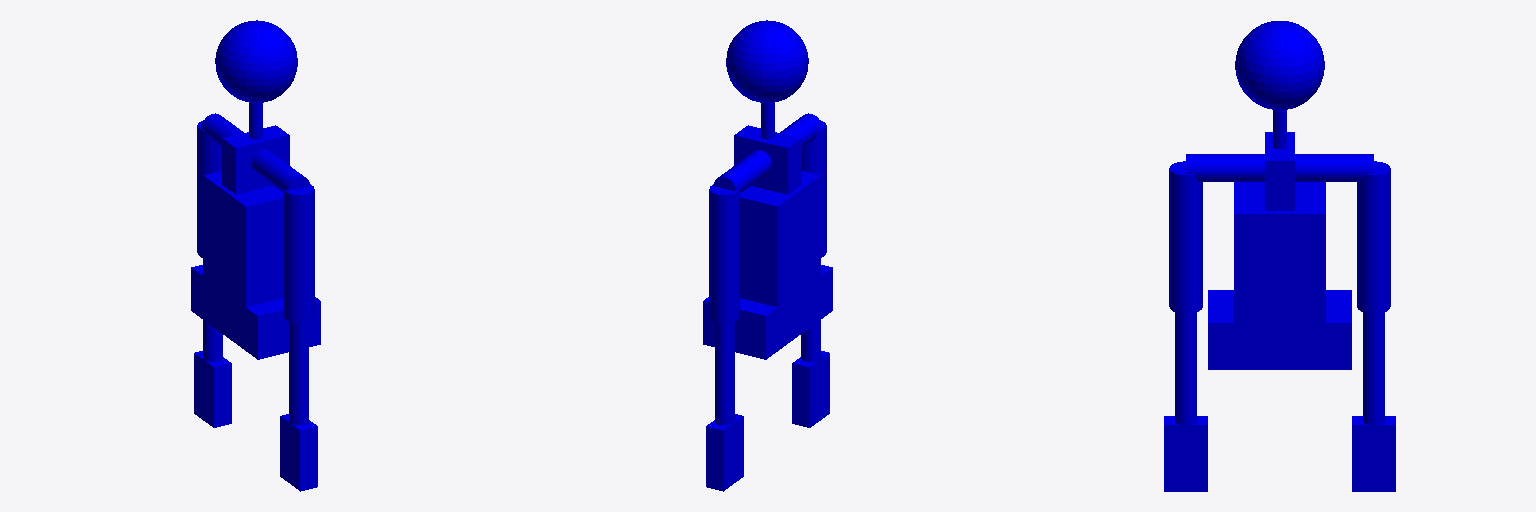
The robot description file, URDF, robot "human_upper_body":
<robot name="human_upper_body">

<material name="color">
    <color rgba="0 0 1 1"/>
</material>

<link name="world"/>

<joint name="worldtoPelvis" type="fixed">
    <origin xyz="0 0 0" rpy="0 0 0"/>
    <parent link="world"/>
    <child link="Pelvis"/>
</joint>

<link name="Pelvis">
    <inertial>
      <mass value="0.001"/>
      <!--COM origin wrt pHipOrigin-->
      <origin rpy="0 0 0" xyz="0 0 0.05409"/>
      <inertia ixx="0.052822" ixy="0" ixz="0" iyy="0.019965" iyz="0" izz="0.060476"/>
    </inertial>
    <visual>
      <!--box origin wrt pHipOrigin-->
      <origin rpy="0 0 0" xyz="0 0 0.05409"/>
      <geometry>
        <box size="0.16203 0.29786 0.10818"/>
      </geometry>
      <material name="color"/>
    </visual>
    <collision>
      <!--box origin wrt pHipOrigin-->
      <origin rpy="0 0 0" xyz="0 0 0.05409"/>
      <geometry>
        <box size="0.16203 0.29786 0.10818"/>
      </geometry>
    </collision>
  </link>
  <joint name="jPelvis" type="fixed">
    <origin rpy="0 0 0" xyz="0 0 0.10818"/>
    <parent link="Pelvis"/>
    <child link="L5"/>
  </joint>
  <link name="L5">
    <inertial>
      <mass value="0.001"/>
      <!--COM origin wrt jL5S1-->
      <origin rpy="0 0 0" xyz="0 0 0.044243"/>
      <inertia ixx="0.029829" ixy="0" ixz="0" iyy="0.022858" iyz="0" izz="0.042185"/>
    </inertial>
    <visual>
      <!--box origin origin wrt jL5S1-->
      <origin rpy="0 0 0" xyz="0 0 0.044243"/>
      <geometry>
        <box size="0.16203 0.19144 0.088486"/>
      </geometry>
      <material name="color"/>
    </visual>
    <collision>
      <!--box origin origin wrt jL5S1-->
      <origin rpy="0 0 0" xyz="0 0 0.044243"/>
      <geometry>
        <box size="0.16203 0.19144 0.088486"/>
      </geometry>
    </collision>
  </link>
  <joint name="jL5L3" type="fixed">
    <origin rpy="0 0 0" xyz="0 0 0.088486"/>
    <parent link="L5"/>
    <child link="L3"/>
  </joint>
  <link name="L3">
    <inertial>
      <mass value="0.001"/>
      <!--COM origin wrt jL4L3-->
      <origin rpy="0 0 0" xyz="0 0 0.039957"/>
      <inertia ixx="0.028861" ixy="0" ixz="0" iyy="0.02189" iyz="0" izz="0.042185"/>
    </inertial>
    <visual>
      <!--box origin origin wrt jL4L3-->
      <origin rpy="0 0 0" xyz="0 0 0.039957"/>
      <geometry>
        <box size="0.16203 0.19144 0.079914"/>
      </geometry>
      <material name="color"/>
    </visual>
    <collision>
      <!--box origin origin wrt jL4L3-->
      <origin rpy="0 0 0" xyz="0 0 0.039957"/>
      <geometry>
        <box size="0.16203 0.19144 0.079914"/>
      </geometry>
    </collision>
  </link>
  <joint name="jL1T12_rotx" type="fixed">
    <origin rpy="0 0 0" xyz="0 0 0.079914"/>
    <parent link="L3"/>
    <child link="T12"/>
  </joint>
  <link name="T12">
    <inertial>
      <mass value="0.001"/>
      <!--COM origin wrt jL1T12-->
      <origin rpy="0 0 0" xyz="0 0 0.039957"/>
      <inertia ixx="0.028861" ixy="0" ixz="0" iyy="0.02189" iyz="0" izz="0.042185"/>
    </inertial>
    <visual>
      <!--box origin origin wrt jL1T12-->
      <origin rpy="0 0 0" xyz="0 0 0.039957"/>
      <geometry>
        <box size="0.16203 0.19144 0.079914"/>
      </geometry>
      <material name="color"/>
    </visual>
    <collision>
      <!--box origin origin wrt jL1T12-->
      <origin rpy="0 0 0" xyz="0 0 0.039957"/>
      <geometry>
        <box size="0.16203 0.19144 0.079914"/>
      </geometry>
    </collision>
  </link>
  <joint name="jT9T8_rotx" type="fixed">
    <origin rpy="0 0 0" xyz="0 0 0.079914"/>
    <parent link="T12"/>
    <child link="T8"/>
  </joint>
  <link name="T8">
    <inertial>
      <mass value="0.001"/>
      <!--COM origin wrt jT9T8-->
      <origin rpy="0 0 0" xyz="0 0 0.057446"/>
      <inertia ixx="0.0044311" ixy="0" ixz="0" iyy="0.0085523" iyz="0" izz="0.0060402"/>
    </inertial>
    <visual>
      <!--box origin wrt jT9T8-->
      <origin rpy="0 0 0" xyz="0 0 0.057446"/>
      <geometry>
        <box size="0.13899 0.0604 0.11489"/>
      </geometry>
      <material name="color"/>
    </visual>
    <collision>
      <!--box origin wrt jT9T8-->
      <origin rpy="0 0 0" xyz="0 0 0.057446"/>
      <geometry>
        <box size="0.13899 0.0604 0.11489"/>
      </geometry>
    </collision>
  </link>
  <joint name="jT8Neck" type="fixed">
    <origin rpy="0 0 0" xyz="0 0 0.11489"/>
    <parent link="T8"/>
    <child link="Neck"/>
  </joint>
  <link name="Neck">
    <inertial>
      <mass value="0.001"/>
      <!--COM origin wrt jT1C7-->
      <origin rpy="0 0 0" xyz="0 0 0.045875"/>
      <inertia ixx="0.00087909" ixy="0" ixz="0" iyy="0.00087909" iyz="0" izz="0.00042982"/>
    </inertial>
    <visual>
      <!--box origin wrt jT1C7-->
      <origin rpy="0 0 0" xyz="0 0 0.045875"/>
      <geometry>
        <cylinder length="0.09175" radius="0.015066"/>
      </geometry>
      <material name="color"/>
    </visual>
    <collision>
      <!--box origin wrt jT1C7-->
      <origin rpy="0 0 0" xyz="0 0 0.045875"/>
      <geometry>
        <cylinder length="0.09175" radius="0.015066"/>
      </geometry>
    </collision>
  </link>
  <joint name="jNeckHead" type="fixed">
    <origin rpy="0 0 0" xyz="0.001481 0 0.09175"/>
    <parent link="Neck"/>
    <child link="Head"/>
    <dynamics damping="0.1" friction="0.0"/>
    <limit effort="30" lower="-0.610865" upper="0.610865" velocity="1.0"/>
    <axis xyz="1 0 0"/>
  </joint>
  <link name="Head">
    <inertial>
      <mass value="2.8404"/>
      <!--COM origin wrt jC1Head-->
      <origin rpy="0 0 0" xyz="0 0 0.092703"/>
      <inertia ixx="0.0097641" ixy="0" ixz="0" iyy="0.0097641" iyz="0" izz="0.0097641"/>
    </inertial>
    <visual>
      <!--boc origin wrt jC1Head-->
      <origin rpy="0 0 0" xyz="0 0 0.092703"/>
      <geometry>
        <sphere radius="0.092703"/>
      </geometry>
      <material name="color"/>
    </visual>
    <collision>
      <!--box origin wrt jC1Head-->
      <origin rpy="0 0 0" xyz="0 0 0.092703"/>
      <geometry>
        <sphere radius="0.092703"/>
      </geometry>
    </collision>
  </link>
  <!-- RIGHT ARM -->
  <joint name="jT8RightShoulder" type="fixed">
    <origin rpy="0 0 0" xyz="0 -0.0302 0.064859"/>
    <parent link="T8"/>
    <child link="RightShoulder"/>
  </joint>
  <link name="RightShoulder">
    <inertial>
      <mass value="0.001"/>
      <!--COM origin wrt jRightC7Shoulder-->
      <origin rpy="0 0 0" xyz="0 -0.081595  0"/>
      <inertia ixx="0.0059341" ixy="0" ixz="0" iyy="0.0010123" iyz="0" izz="0.0059341"/>
    </inertial>
    <visual>
      <!--box origin wrt jRightC7Shoulder. RPY rotated of pi/2.-->
      <origin rpy="1.5708 0 0" xyz="0 -0.081595 0"/>
      <geometry>
        <cylinder length="0.16319" radius="0.02877"/>
      </geometry>
      <material name="color"/>
    </visual>
    <collision>
      <!--box origin wrt jRightC7Shoulder. RPY rotated of pi/2.-->
      <origin rpy="1.5708 0 0" xyz="0 -0.081595 0"/>
      <geometry>
        <cylinder length="0.16319" radius="0.02877"/>
      </geometry>
    </collision>
  </link>
  <joint name="jRight_1" type="revolute">
    <origin rpy="1.5708 0 0" xyz="0 -0.16319 0"/>
    <parent link="RightShoulder"/>
    <child link="Right1"/>
    <dynamics damping="0.1" friction="0.0"/>
    <limit effort="30" lower="-0.5236" upper="3.14159" velocity="1.0"/>
    <axis xyz="0 0 1"/>
  </joint>
  <link name="Right1">
    <inertial>
      <mass value="0.0001"/>
      <origin rpy="0 0 0" xyz="0 0 0"/>
      <inertia ixx="0.0001" ixy="0" ixz="0" iyy="0.0001" iyz="0" izz="0.0001"/>
    </inertial>
  </link>
  <joint name="jRight_2" type="revolute">
    <origin rpy="0 0 0" xyz="0 0 0"/>
    <parent link="Right1"/>
    <child link="Right2"/>
    <dynamics damping="0.1" friction="0.0"/>
    <limit effort="30" lower="-0.8727" upper="1.5708" velocity="1.0"/>
    <axis xyz="-1 0 0"/>
  </joint>
  <link name="Right2">
    <inertial>
      <mass value="0.0001"/>
      <origin rpy="0 0 0" xyz="0 0 0"/>
      <inertia ixx="0.0001" ixy="0" ixz="0" iyy="0.0001" iyz="0" izz="0.0001"/>
    </inertial>
  </link>
  <joint name="jRight_3" type="revolute">
    <origin rpy="0 0 0" xyz="0 0 0"/>
    <parent link="Right2"/>
    <child link="Right3"/>
    <dynamics damping="0.1" friction="0.0"/>
    <limit effort="30" lower="-1.3962" upper="1.3962" velocity="1.0"/>
    <axis xyz="0 -1 0"/>
  </joint>
  <link name="Right3">
    <inertial>
      <mass value="0.0001"/>
      <origin rpy="0 0 0" xyz="0 0 0"/>
      <inertia ixx="0.0001" ixy="0" ixz="0" iyy="0.0001" iyz="0" izz="0.0001"/>
    </inertial>
    <visual>
      <!--box origin wrt jRightShoulder. RPY rotated of pi/2.-->
      <origin rpy="1.5708 0 0" xyz="0 -0.15754 0"/>
      <geometry>
        <cylinder length="0.31509" radius="0.034205"/>
      </geometry>
      <material name="color"/>
    </visual>
    <collision>
      <!--box origin wrt jRightShoulder. RPY rotated of pi/2.-->
      <origin rpy="1.5708 0 0" xyz="0 -0.15754 0"/>
      <geometry>
        <cylinder length="0.31509" radius="0.034205"/>
      </geometry>
    </collision>
  </link>
  <joint name="jRight_4" type="revolute">
    <origin rpy="0 0 0" xyz="0 -0.31509 0"/>
    <parent link="Right3"/>
    <child link="Right4"/>
    <dynamics damping="0.1" friction="0.0"/>
    <limit effort="30" lower="0" upper="2.7925" velocity="1.0"/>
    <axis xyz="0 0 1"/>
  </joint>
  <link name="Right4">
    <inertial>
      <mass value="0.0001"/>
      <origin rpy="0 0 0" xyz="0 0 0"/>
      <inertia ixx="0.0001" ixy="0" ixz="0" iyy="0.0001" iyz="0" izz="0.0001"/>
    </inertial>
  </link>
  <joint name="jRight_5" type="revolute">
    <origin rpy="0 0 0" xyz="0 0 0"/>
    <parent link="Right4"/>
    <child link="Right5"/>
    <dynamics damping="0.1" friction="0.0"/>
    <limit effort="30" lower="-1.5708" upper="1.4835" velocity="1.0"/>
    <axis xyz="0 -1 0"/>
  </joint>
  <link name="Right5">
    <inertial>
      <mass value="0.0001"/>
      <origin rpy="0 0 0" xyz="0 0 0"/>
      <inertia ixx="0.0001" ixy="0" ixz="0" iyy="0.0001" iyz="0" izz="0.0001"/>
    </inertial>
    <visual>
      <!--box origin wrt jRightShoulder. RPY rotated of pi/2.-->
      <origin rpy="1.5708 0 0" xyz="0 -0.1292 0"/>
      <geometry>
        <cylinder length="0.2584" radius="0.022803"/>
      </geometry>
      <material name="color"/>
    </visual>
    <collision>
      <!--box origin wrt jRightShoulder. RPY rotated of pi/2.-->
      <origin rpy="1.5708 0 0" xyz="0 -0.1292 0"/>
      <geometry>
        <cylinder length="0.2584" radius="0.022803"/>
      </geometry>
    </collision>
  </link>
  <joint name="jRight_6" type="revolute">
    <origin rpy="0 0 0" xyz="0 -0.2584 0"/>
    <parent link="Right5"/>
    <child link="Right6"/>
    <dynamics damping="0.1" friction="0.0"/>
    <limit effort="30" lower="-1.4835" upper="1.4835" velocity="1.0"/>
    <axis xyz="0 0 1"/>
  </joint>
  <link name="Right6">
    <inertial>
      <mass value="0.0001"/>
      <origin rpy="0 0 0" xyz="0 0 0"/>
      <inertia ixx="0.0001" ixy="0" ixz="0" iyy="0.0001" iyz="0" izz="0.0001"/>
    </inertial>
  </link>
  <joint name="jRight_7" type="revolute">
    <origin rpy="0 0 0" xyz="0 0 0"/>
    <parent link="Right6"/>
    <child link="Right7"/>
    <dynamics damping="0.1" friction="0.0"/>
    <limit effort="30" lower="-0.7854" upper="0.2618" velocity="1.0"/>
    <axis xyz="-1 0 0"/>
  </joint>
  <link name="Right7">
    <inertial>
      <mass value="0.001"/>
      <!--COM origin wrt jRightWrist-->
      <origin rpy="0 0 0" xyz="0 -0.075 0"/>
      <inertia ixx="0.001" ixy="0" ixz="0" iyy="0.001" iyz="0" izz="0.001"/>
    </inertial>
    <visual>
      <!--box origin wrt jRightWrist-->
      <origin rpy="0 0 0" xyz="0 -0.075 0"/>
      <geometry>
        <!-- <box size="0.12916 0.19374 0.045607"/> -->
        <box size="0.045607 0.15 0.09"/>
      </geometry>
      <material name="color"/>
    </visual>
    <collision>
      <!--box origin wrt jRightWrist-->
      <origin rpy="0 0 0" xyz="0 -0.075 0"/>
      <geometry>
        <!-- <box size="0.12916 0.19374 0.045607"/> -->
        <box size="0.045607 0.15 0.09"/>
      </geometry>
    </collision>
  </link>
  <joint name="jRight_8" type="fixed">
    <origin rpy="0 0 0" xyz="0 -0.05 0"/>
    <parent link="Right7"/>
    <child link="RightTCP"/>
  </joint>
  <link name="RightTCP"/>
  <!-- LEFT ARM -->
  <joint name="jT8LeftShoulder" type="fixed">
    <origin rpy="0 0 0" xyz="0 0.0302 0.064859"/>
    <parent link="T8"/>
    <child link="LeftShoulder"/>
  </joint>
  <link name="LeftShoulder">
    <inertial>
      <mass value="0.001"/>
      <!--COM origin wrt jRightC7Shoulder-->
      <origin rpy="0 0 0" xyz="0 0.081595  0"/>
      <inertia ixx="0.0059341" ixy="0" ixz="0" iyy="0.0010123" iyz="0" izz="0.0059341"/>
    </inertial>
    <visual>
      <!--box origin wrt jRightC7Shoulder. RPY rotated of pi/2.-->
      <origin rpy="1.5708 0 0" xyz="0 0.081595 0"/>
      <geometry>
        <cylinder length="0.16319" radius="0.02877"/>
      </geometry>
      <material name="color"/>
    </visual>
    <collision>
      <!--box origin wrt jRightC7Shoulder. RPY rotated of pi/2.-->
      <origin rpy="1.5708 0 0" xyz="0 0.081595 0"/>
      <geometry>
        <cylinder length="0.16319" radius="0.02877"/>
      </geometry>
    </collision>
  </link>
  <joint name="jLeft_1" type="revolute">
    <origin rpy="1.5708 0 0" xyz="0 0.16319 0"/>
    <parent link="LeftShoulder"/>
    <child link="Left1"/>
    <dynamics damping="0.1" friction="0.0"/>
    <limit effort="30" lower="-0.5236" upper="3.14159" velocity="1.0"/>
    <axis xyz="0 0 1"/>
  </joint>
  <link name="Left1">
    <inertial>
      <mass value="0.0001"/>
      <origin rpy="0 0 0" xyz="0 0 0"/>
      <inertia ixx="0.0001" ixy="0" ixz="0" iyy="0.0001" iyz="0" izz="0.0001"/>
    </inertial>
  </link>
  <joint name="jLeft_2" type="revolute">
    <origin rpy="0 0 0" xyz="0 0 0"/>
    <parent link="Left1"/>
    <child link="Left2"/>
    <dynamics damping="0.1" friction="0.0"/>
    <limit effort="30" lower="-1.5708" upper="0.8727" velocity="1.0"/>
    <axis xyz="-1 0 0"/>
  </joint>
  <link name="Left2">
    <inertial>
      <mass value="0.0001"/>
      <origin rpy="0 0 0" xyz="0 0 0"/>
      <inertia ixx="0.0001" ixy="0" ixz="0" iyy="0.0001" iyz="0" izz="0.0001"/>
    </inertial>
  </link>
  <joint name="jLeft_3" type="revolute">
    <origin rpy="0 0 0" xyz="0 0 0"/>
    <parent link="Left2"/>
    <child link="Left3"/>
    <dynamics damping="0.1" friction="0.0"/>
    <limit effort="30" lower="-1.3962" upper="1.3962" velocity="1.0"/>
    <axis xyz="0 -1 0"/>
  </joint>
  <link name="Left3">
    <inertial>
      <mass value="0.0001"/>
      <origin rpy="0 0 0" xyz="0 0 0"/>
      <inertia ixx="0.0001" ixy="0" ixz="0" iyy="0.0001" iyz="0" izz="0.0001"/>
    </inertial>
    <visual>
      <!--box origin wrt jRightShoulder. RPY rotated of pi/2.-->
      <origin rpy="1.5708 0 0" xyz="0 -0.15754 0"/>
      <geometry>
        <cylinder length="0.31509" radius="0.034205"/>
      </geometry>
      <material name="color"/>
    </visual>
    <collision>
      <!--box origin wrt jRightShoulder. RPY rotated of pi/2.-->
      <origin rpy="1.5708 0 0" xyz="0 -0.15754 0"/>
      <geometry>
        <cylinder length="0.31509" radius="0.034205"/>
      </geometry>
    </collision>
  </link>
  <joint name="jLeft_4" type="revolute">
    <origin rpy="0 0 0" xyz="0 -0.31509 0"/>
    <parent link="Left3"/>
    <child link="Left4"/>
    <dynamics damping="0.1" friction="0.0"/>
    <limit effort="30" lower="0" upper="2.7925" velocity="1.0"/>
    <axis xyz="0 0 1"/>
  </joint>
  <link name="Left4">
    <inertial>
      <mass value="0.0001"/>
      <origin rpy="0 0 0" xyz="0 0 0"/>
      <inertia ixx="0.0001" ixy="0" ixz="0" iyy="0.0001" iyz="0" izz="0.0001"/>
    </inertial>
  </link>
  <joint name="jLeft_5" type="revolute">
    <origin rpy="0 0 0" xyz="0 0 0"/>
    <parent link="Left4"/>
    <child link="Left5"/>
    <dynamics damping="0.1" friction="0.0"/>
    <limit effort="30" lower="-1.4835" upper="1.5708" velocity="1.0"/>
    <axis xyz="0 -1 0"/>
  </joint>
  <link name="Left5">
    <inertial>
      <mass value="0.0001"/>
      <origin rpy="0 0 0" xyz="0 0 0"/>
      <inertia ixx="0.0001" ixy="0" ixz="0" iyy="0.0001" iyz="0" izz="0.0001"/>
    </inertial>
    <visual>
      <!--box origin wrt jRightShoulder. RPY rotated of pi/2.-->
      <origin rpy="1.5708 0 0" xyz="0 -0.1292 0"/>
      <geometry>
        <cylinder length="0.2584" radius="0.022803"/>
      </geometry>
      <material name="color"/>
    </visual>
    <collision>
      <!--box origin wrt jRightShoulder. RPY rotated of pi/2.-->
      <origin rpy="1.5708 0 0" xyz="0 -0.1292 0"/>
      <geometry>
        <cylinder length="0.2584" radius="0.022803"/>
      </geometry>
    </collision>
  </link>
  <joint name="jLeft_6" type="revolute">
    <origin rpy="0 0 0" xyz="0 -0.2584 0"/>
    <parent link="Left5"/>
    <child link="Left6"/>
    <dynamics damping="0.1" friction="0.0"/>
    <limit effort="30" lower="-1.4835" upper="1.4835" velocity="1.0"/>
    <axis xyz="0 0 1"/>
  </joint>
  <link name="Left6">
    <inertial>
      <mass value="0.0001"/>
      <origin rpy="0 0 0" xyz="0 0 0"/>
      <inertia ixx="0.0001" ixy="0" ixz="0" iyy="0.0001" iyz="0" izz="0.0001"/>
    </inertial>
  </link>
  <joint name="jLeft_7" type="revolute">
    <origin rpy="0 0 0" xyz="0 0 0"/>
    <parent link="Left6"/>
    <child link="Left7"/>
    <dynamics damping="0.1" friction="0.0"/>
    <limit effort="30" lower="-0.2618" upper="0.7854" velocity="1.0"/>
    <axis xyz="-1 0 0"/>
  </joint>
  <link name="Left7">
    <inertial>
      <mass value="0.001"/>
      <!--COM origin wrt jRightWrist-->
      <origin rpy="0 0 0" xyz="0 -0.096871 0"/>
      <inertia ixx="0.001" ixy="0" ixz="0" iyy="0.001" iyz="0" izz="0.001"/>
    </inertial>
    <visual>
      <!--box origin wrt jRightWrist-->
      <origin rpy="0 0 0" xyz="0 -0.075 0"/>
      <geometry>
        <!-- <box size="0.12916 0.19374 0.045607"/> -->
        <box size="0.045607 0.15 0.09"/>
      </geometry>
      <material name="color"/>
    </visual>
    <collision>
      <!--box origin wrt jRightWrist-->
      <origin rpy="0 0 0" xyz="0 -0.075 0"/>
      <geometry>
        <!-- <box size="0.12916 0.19374 0.045607"/> -->
        <box size="0.045607 0.15 0.09"/>
      </geometry>
    </collision>
  </link>
  <joint name="jLeft_8" type="fixed">
    <origin rpy="0 0 0" xyz="0 -0.05 0"/>
    <parent link="Left7"/>
    <child link="LeftTCP"/>
  </joint>
  <link name="LeftTCP"/>

</robot>

--- Facts derived from the render (not from the file) ---
3 views of the same robot in one strip: view 1: azimuth 30°, elevation 25°; view 2: azimuth 150°, elevation 25°; view 3: azimuth 270°, elevation 25° (orthographic).
Model human_upper_body with 26 links and 25 joints (14 revolute, 11 fixed), rooted at world, posed all joints at 0.
Links seen in each view (by area): view 1: Head, Pelvis, Right3, T12, L5, T8, L3, Right7, Left7, Right5, Left3, RightShoulder (+2 smaller); view 2: Head, Pelvis, Left3, T12, L5, T8, L3, Left7, Right7, Left5, Right3, LeftShoulder (+2 smaller); view 3: Pelvis, Head, T12, Right3, Left3, L5, L3, Right7, Left7, Right5, Left5, T8 (+3 smaller).
Boxes of the visible links, <box> form: Head: <box>215,20,297,102</box>; Pelvis: <box>191,265,320,359</box>; Right3: <box>284,184,314,322</box>; T12: <box>203,171,283,238</box>; L5: <box>203,240,283,306</box>; T8: <box>222,125,289,194</box>; L3: <box>203,208,283,270</box>; Right7: <box>280,414,317,491</box>; Left7: <box>194,351,231,427</box>; Right5: <box>289,321,308,424</box>; Left3: <box>197,120,221,257</box>; RightShoulder: <box>252,150,309,192</box>; Head: <box>726,20,808,102</box>; Pelvis: <box>703,265,832,359</box>; Left3: <box>709,184,739,322</box>; T12: <box>740,171,820,238</box>; L5: <box>740,240,820,306</box>; T8: <box>734,125,801,194</box>; L3: <box>740,208,820,270</box>; Left7: <box>706,414,743,491</box>; Right7: <box>792,351,829,427</box>; Left5: <box>715,321,734,424</box>; Right3: <box>802,120,826,257</box>; LeftShoulder: <box>714,150,771,192</box>; Pelvis: <box>1208,290,1351,369</box>; Head: <box>1235,21,1324,109</box>; T12: <box>1234,182,1325,248</box>; Right3: <box>1169,161,1202,313</box>; Left3: <box>1357,161,1390,313</box>; L5: <box>1234,284,1325,322</box>; L3: <box>1234,249,1325,283</box>; Right7: <box>1164,416,1207,491</box>; Left7: <box>1352,416,1395,491</box>; Right5: <box>1175,312,1196,424</box>; Left5: <box>1363,312,1384,424</box>; T8: <box>1265,132,1294,210</box>.
Size in the robot's own frame: 0.1854 by 0.4768 by 1.05 metres.
Geometry: primitives only (box / cylinder / sphere), no mesh files.